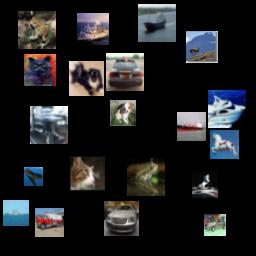airplane: (24, 167, 43, 186)
automobile: (106, 53, 144, 91), (104, 201, 139, 236), (204, 214, 226, 236)
bird: (186, 31, 218, 63)
cat: (70, 156, 105, 191), (24, 54, 56, 86)
dog: (69, 61, 104, 96), (110, 100, 136, 126)
frog: (127, 158, 165, 196), (18, 11, 56, 49)
ship: (208, 90, 246, 128), (138, 4, 176, 42), (77, 13, 109, 45), (177, 112, 206, 141), (3, 200, 29, 226)
truck: (30, 106, 68, 144), (35, 208, 64, 237)
